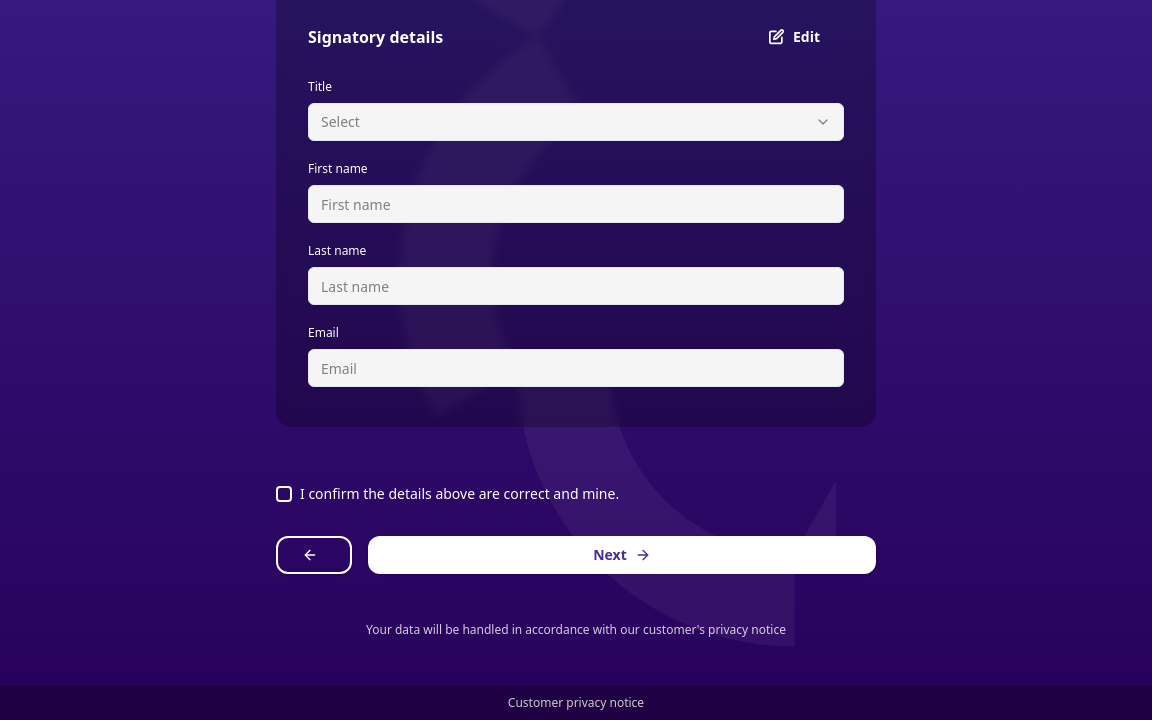
Test: ConfirmDetails › navigation › shows error when Next clicked without confirmation in view mode
The width and height of the screenshot is (1152, 720).
(page scrolled)
Click the button "Next" at (622, 555), box top-left (368, 536), bottom-right (876, 574)
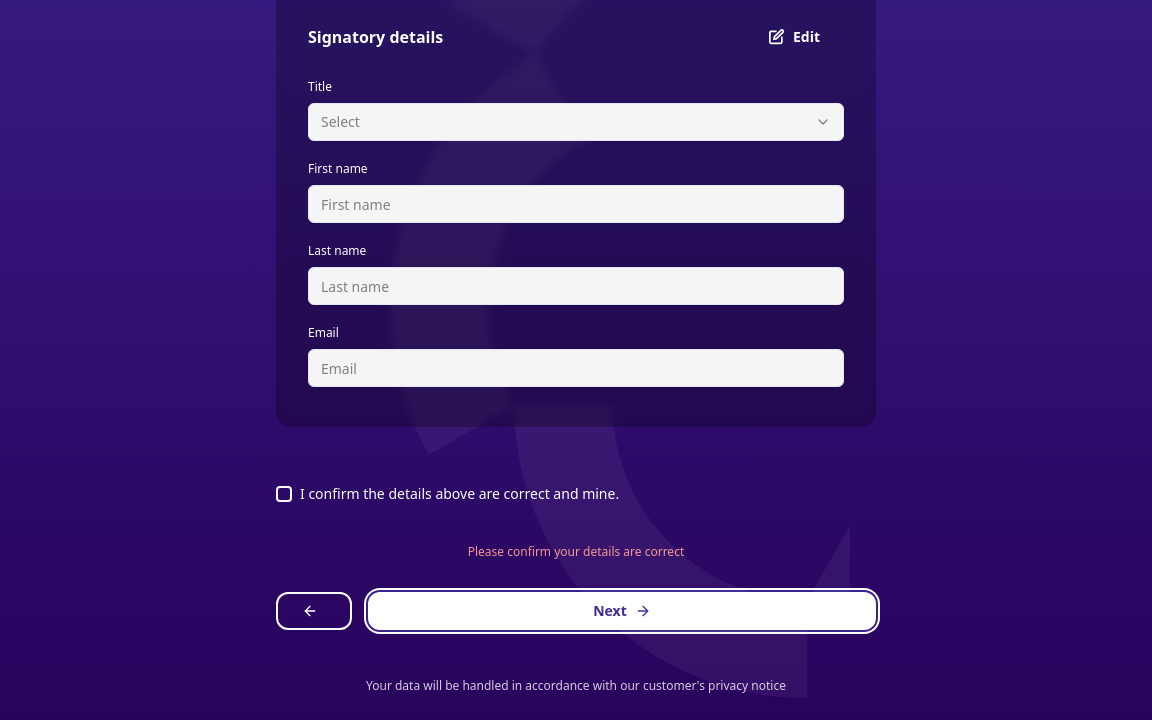
Expected: the text "Please confirm your details are correct" is shown, top-left (468, 543), bottom-right (684, 560)
